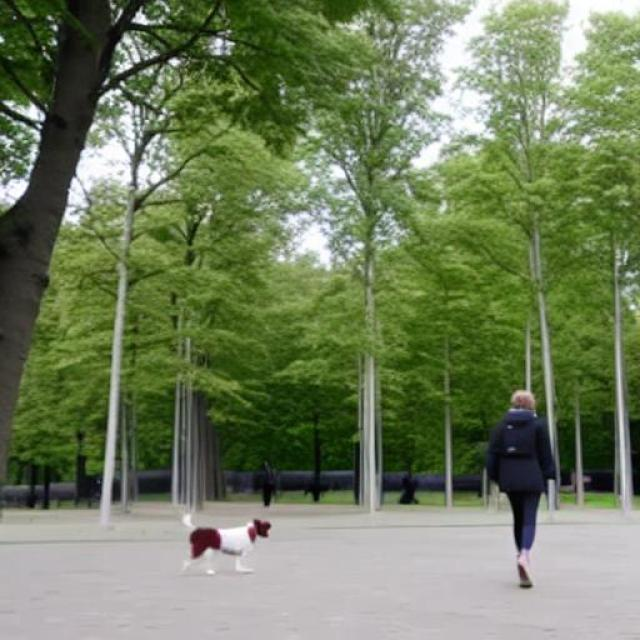Unleashed_Dog: (179, 468, 539, 576)
